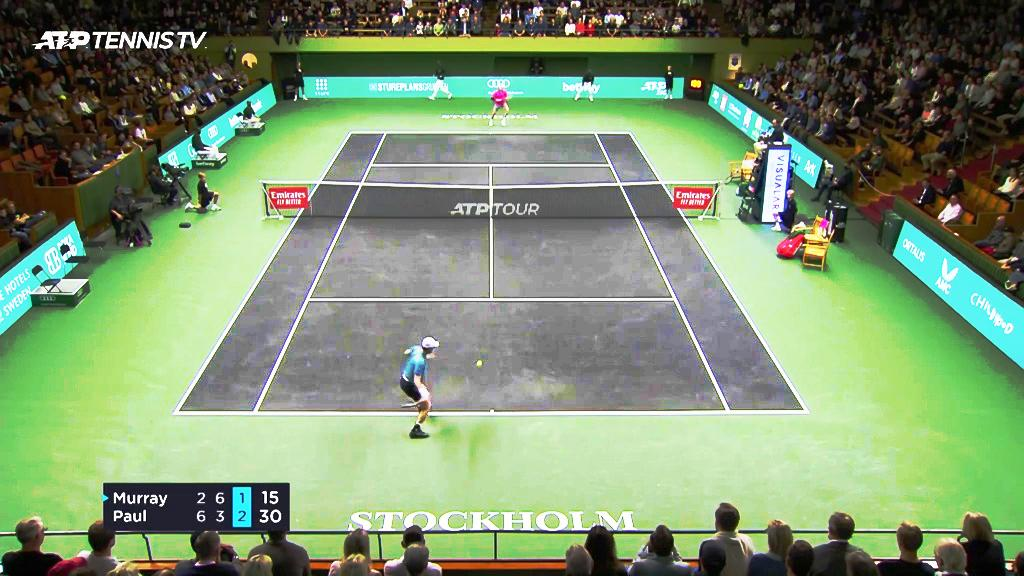tennis-court: (172, 132, 811, 415)
